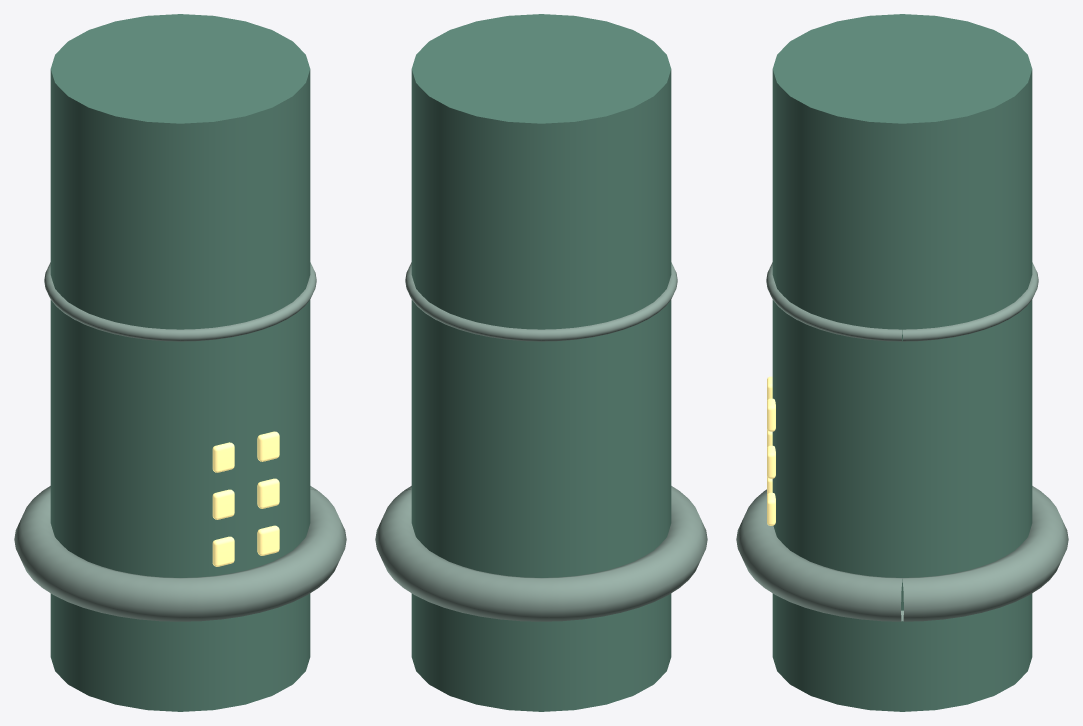
3 views of the same model, side by side, from view 1: azimuth 30°, elevation 25°; view 2: azimuth 150°, elevation 25°; view 3: azimuth 270°, elevation 25° (orthographic).
Visible parts, largest first — view 1: Cylindrical tower, Tower intermediate ledge, Tower seam, Inset service window, Inset service window.001, Inset service window.004, Inset service window.002, Inset service window.003, Inset service window.005; view 2: Cylindrical tower, Tower intermediate ledge, Tower seam; view 3: Cylindrical tower, Tower intermediate ledge, Tower seam.
Boxes of the visible parts, x1,y1,x2,y2 form: Cylindrical tower: (50,14,310,711); Tower intermediate ledge: (14,486,346,621); Tower seam: (44,262,316,341); Inset service window: (212,536,234,566); Inset service window.001: (257,525,279,555); Inset service window.004: (212,442,234,472); Inset service window.002: (212,489,234,519); Inset service window.003: (257,478,279,508); Inset service window.005: (257,431,279,461); Cylindrical tower: (411,14,671,711); Tower intermediate ledge: (375,486,707,621); Tower seam: (405,262,677,341); Cylindrical tower: (772,14,1032,711); Tower intermediate ledge: (736,486,1068,621); Tower seam: (766,262,1038,341).
Bounding box in the file's own units: 1.28 × 2.5 × 1.28.
